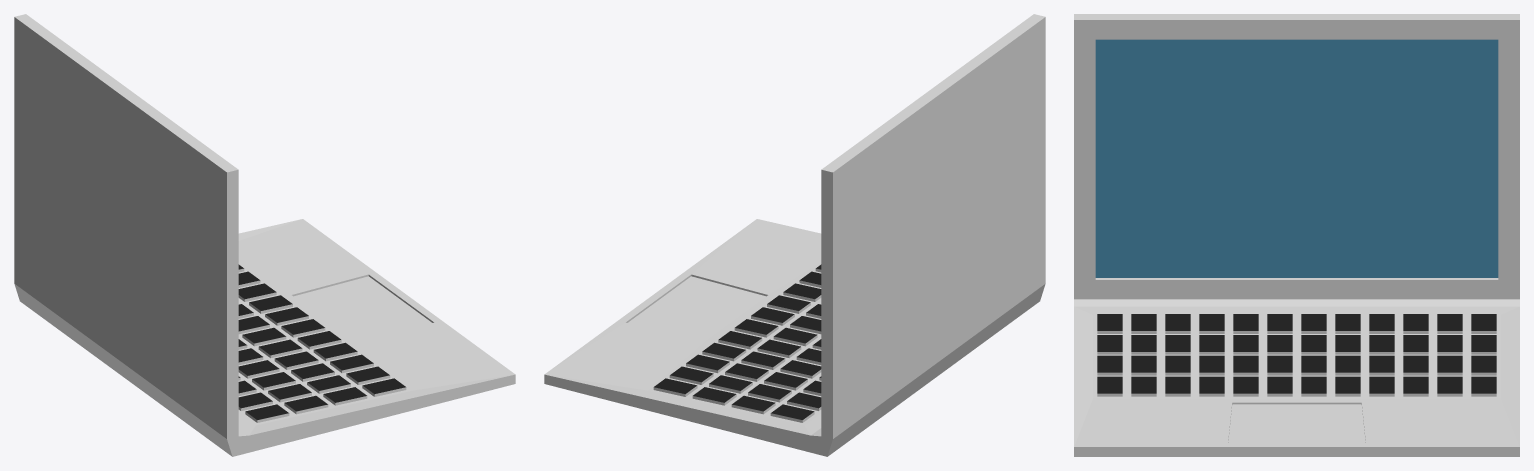
Rendered from laptop.gltf.
3 views of the same model, side by side, from view 1: azimuth 30°, elevation 25°; view 2: azimuth 150°, elevation 25°; view 3: azimuth 270°, elevation 25° (orthographic). The views are drawn at different scales.
Parts seen in each view (by area): view 1: Cube; view 2: Cube; view 3: Cube.
Boxes of the visible parts, box(x1,y1,x2,y2) form: Cube: box(14, 14, 515, 456); Cube: box(544, 14, 1045, 456); Cube: box(1074, 14, 1519, 456).
Size of the model in its own units: 1.57 by 1.48 by 2.
1 material, 1 textured.
